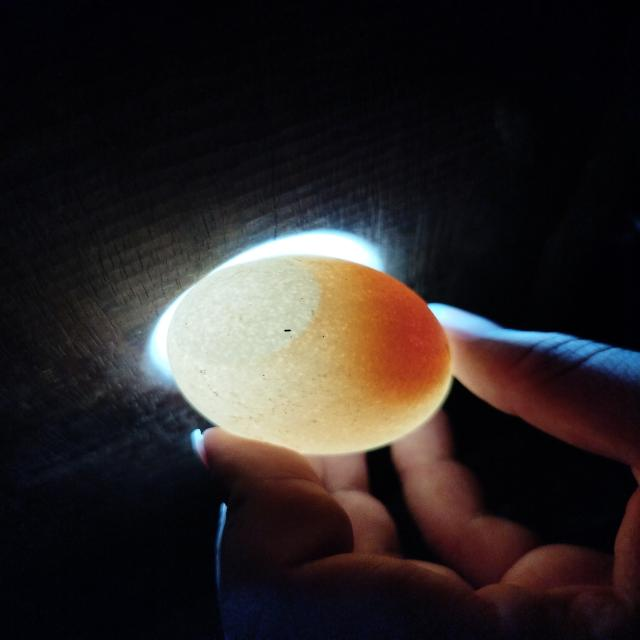Camara de Ar: (182, 256, 319, 359)
